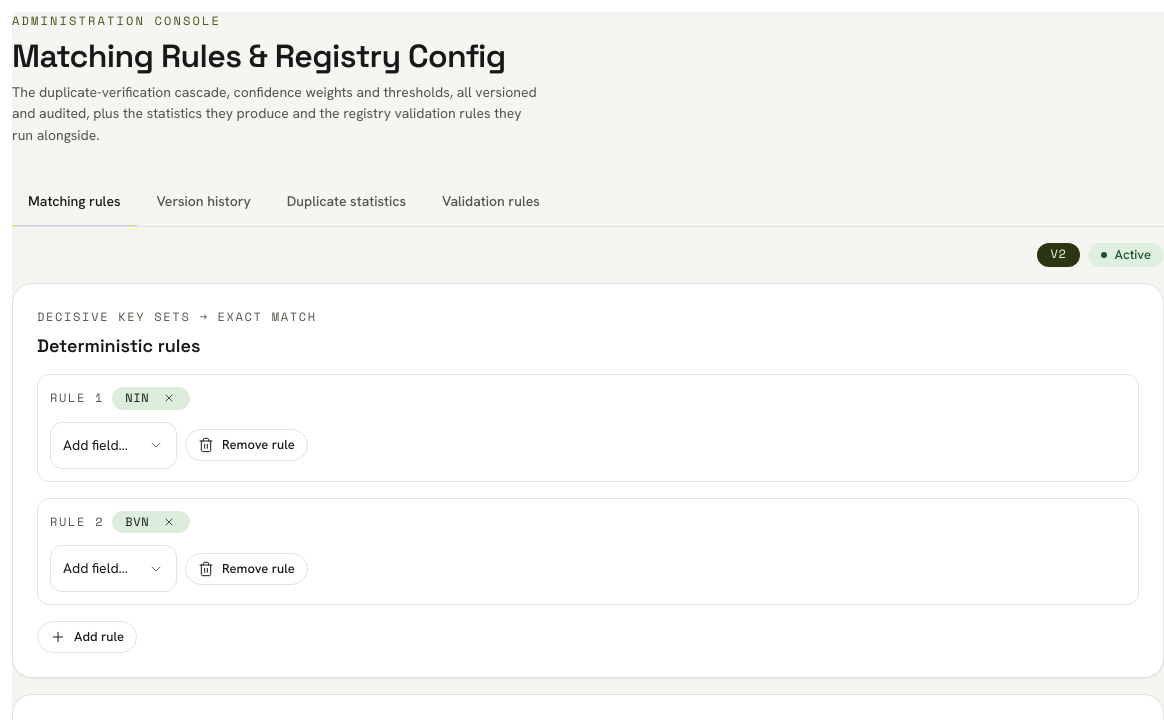
Test: Admin console — Matching Rules & Registry Config (composes Phase 3) › reports duplicate statistics produced by the configured engine
The width and height of the screenshot is (1164, 720).
Expected: the text "v2" is shown, [1037, 242, 1080, 267]
Click the tab "Duplicate statistics" at [346, 203], box [271, 179, 422, 226]
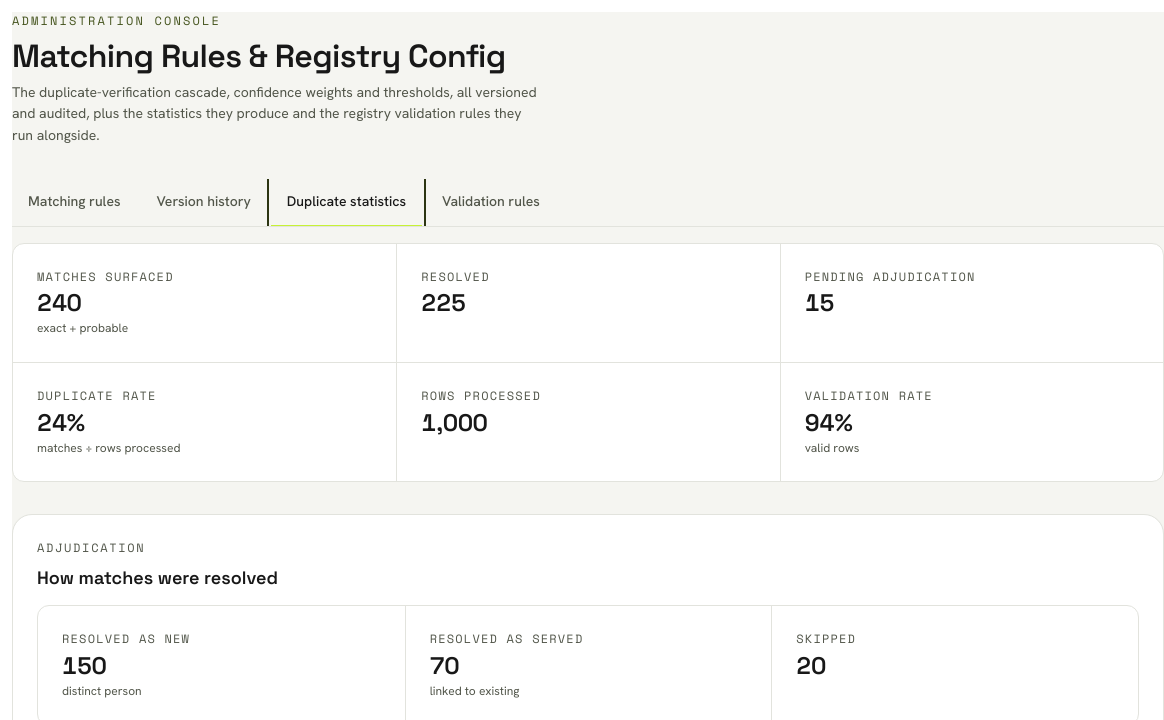
Expected: the text "Matches surfaced" is shown, [37, 268, 174, 284]
Expected: the text "240" is shown, [37, 287, 82, 318]
Expected: the text "Duplicate rate" is shown, [37, 387, 157, 404]
